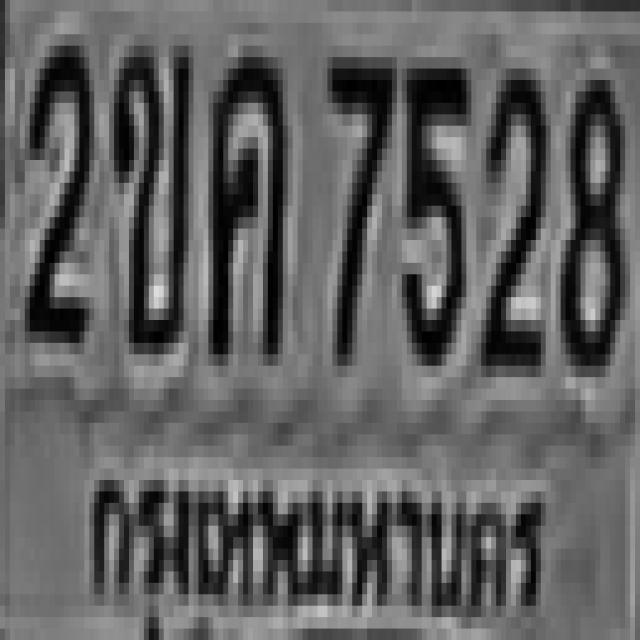11KhorKhai: (109, 34, 189, 343)
13KhorKhwai: (206, 46, 285, 354)
2: (476, 57, 546, 366), (20, 35, 89, 332)
5: (397, 57, 466, 354)
7: (322, 46, 392, 354)
8: (556, 68, 620, 366)
Bangkok: (73, 435, 548, 640)
